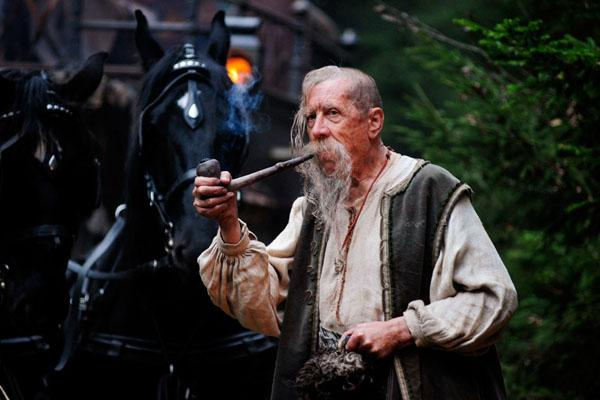trubka: (196, 151, 318, 193)
